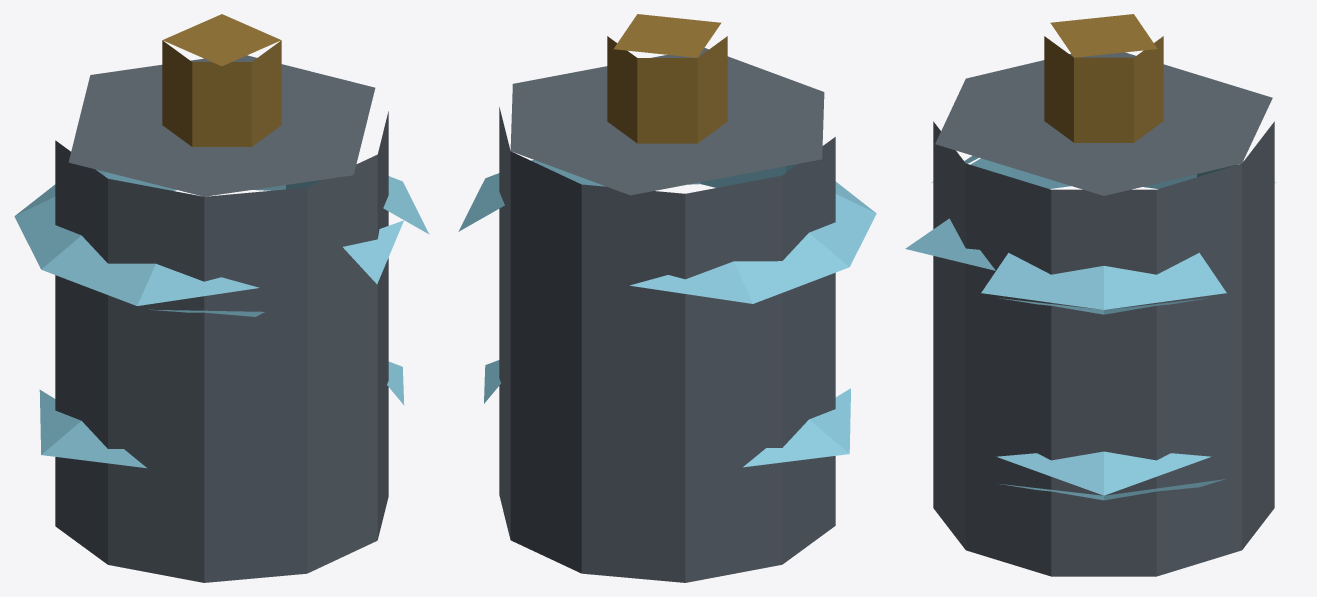
File: cell-cryo.lod.glb
The picture shows the model from 3 angles, left to right: view 1: azimuth 30°, elevation 25°; view 2: azimuth 150°, elevation 25°; view 3: azimuth 270°, elevation 25°; orthographic projection.
Visible parts, largest first — view 1: m; view 2: m; view 3: m.
Part boxes in pixels (x1=…): m: x1=14, y1=14, x2=429, y2=582; m: x1=458, y1=14, x2=876, y2=582; m: x1=905, y1=14, x2=1275, y2=576.
Bounding box in the file's own units: 0.0482 × 0.06 × 0.0458.
